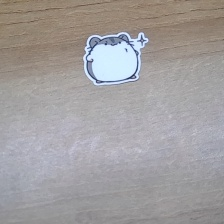mouse: (82, 31, 150, 87)
